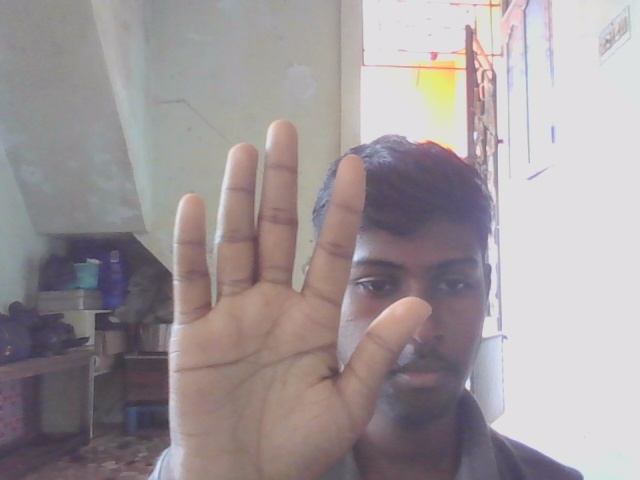Hello: (134, 105, 440, 480)
